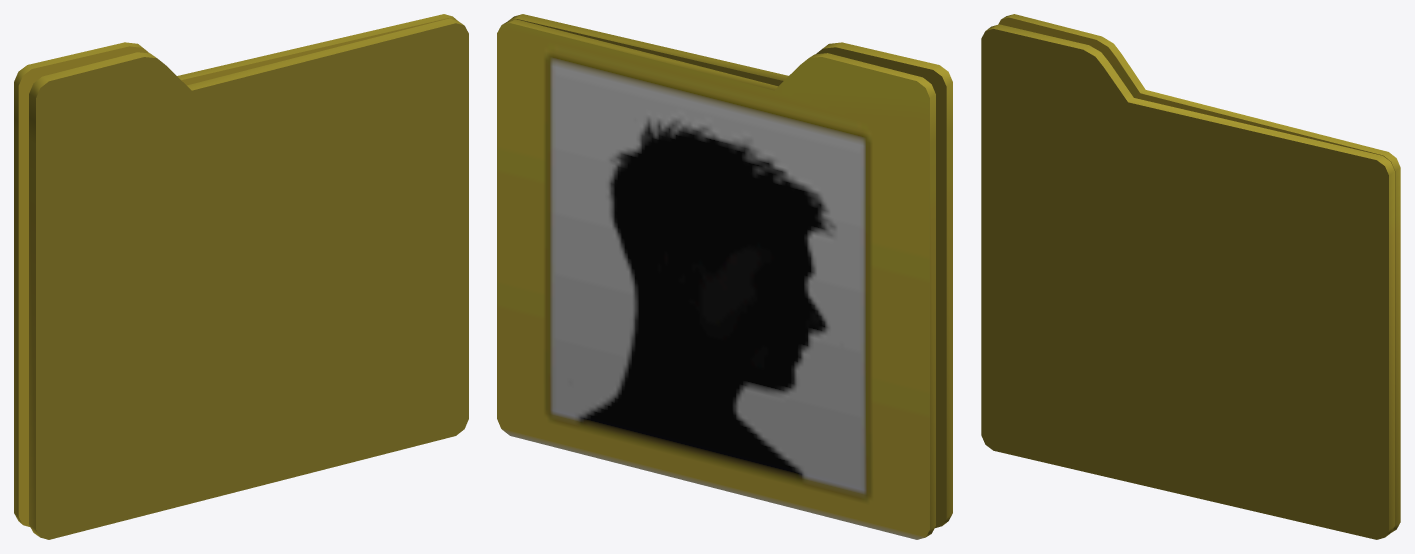
File: progress.ico.obj
3 views of the same model, side by side, from view 1: azimuth 30°, elevation 25°; view 2: azimuth 150°, elevation 25°; view 3: azimuth 330°, elevation 25° (orthographic). The views are drawn at different scales.
Bounding box in the file's own units: 3.77 × 3.77 × 0.3347.
Materials: 1 (1 with a texture image).
